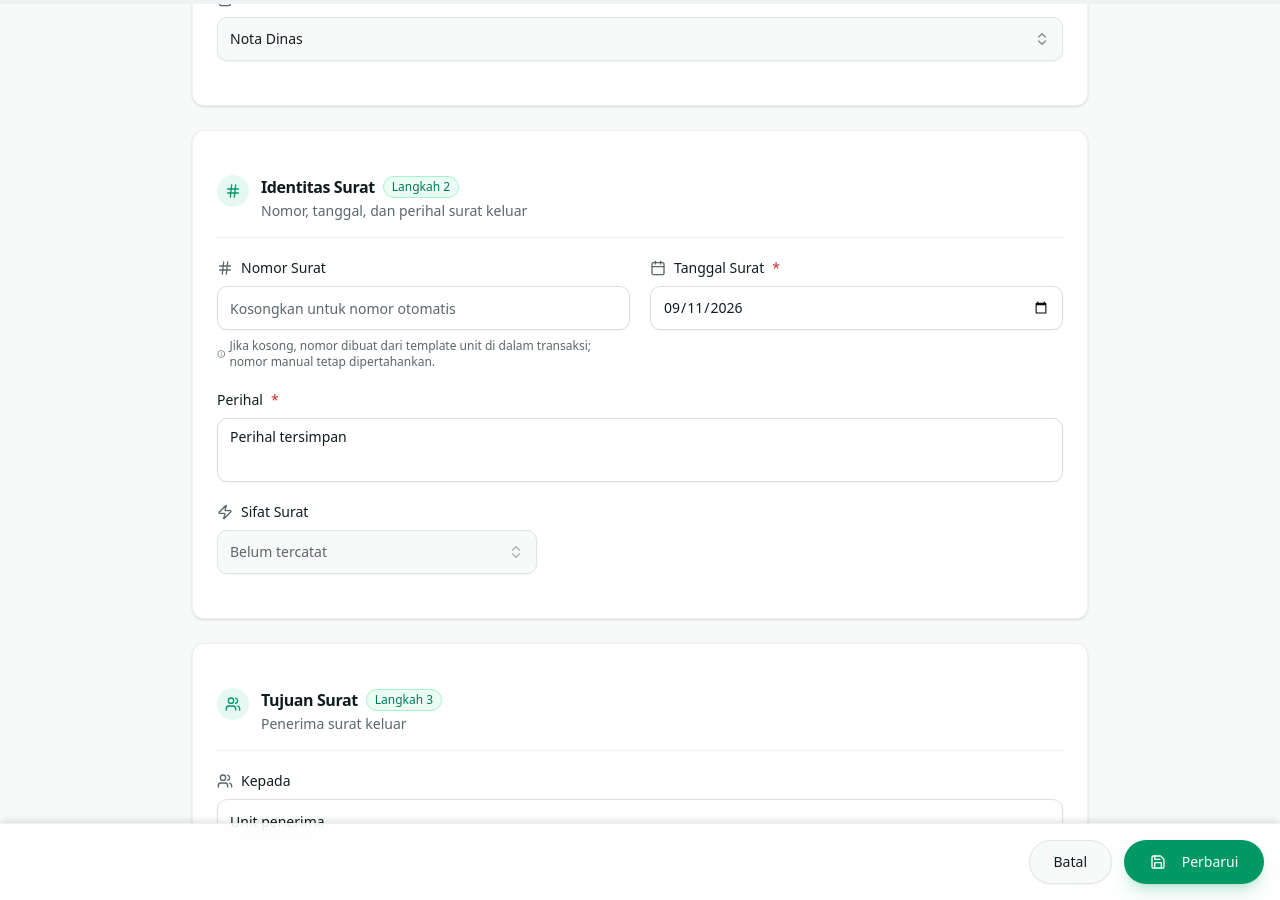
it: form surat keluar › focuses a server error, retains the entered data, and allows retry
(page scrolled)
Replace the text in the text box labelled "Perihal *" with "Perubahan belum tersimpan" at (640, 450), box [217,418,1063,482]
(page scrolled)
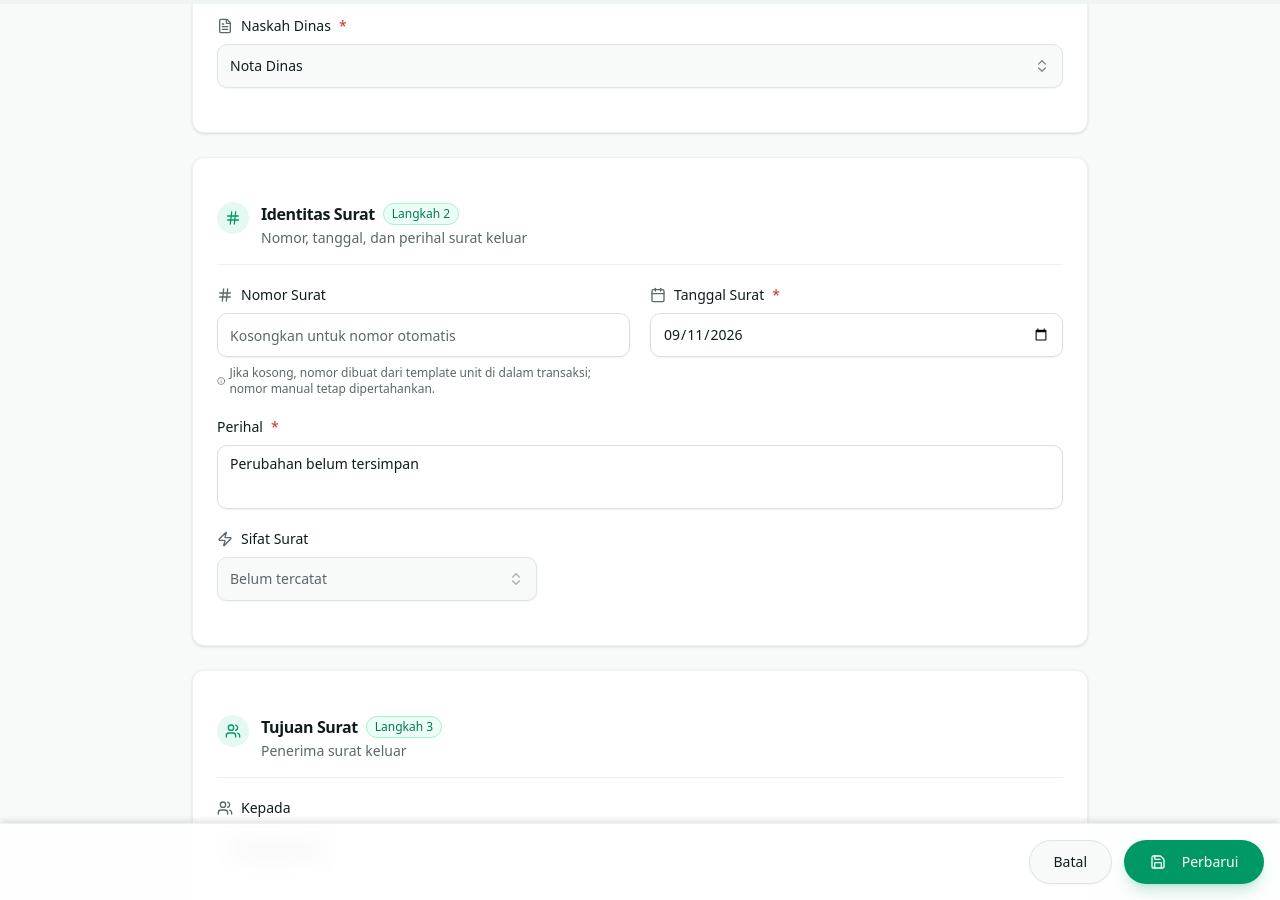
Submit the form
Check: the button "Perbarui" is enabled, box [1124,840,1264,884]
Submit the form
(page scrolled)
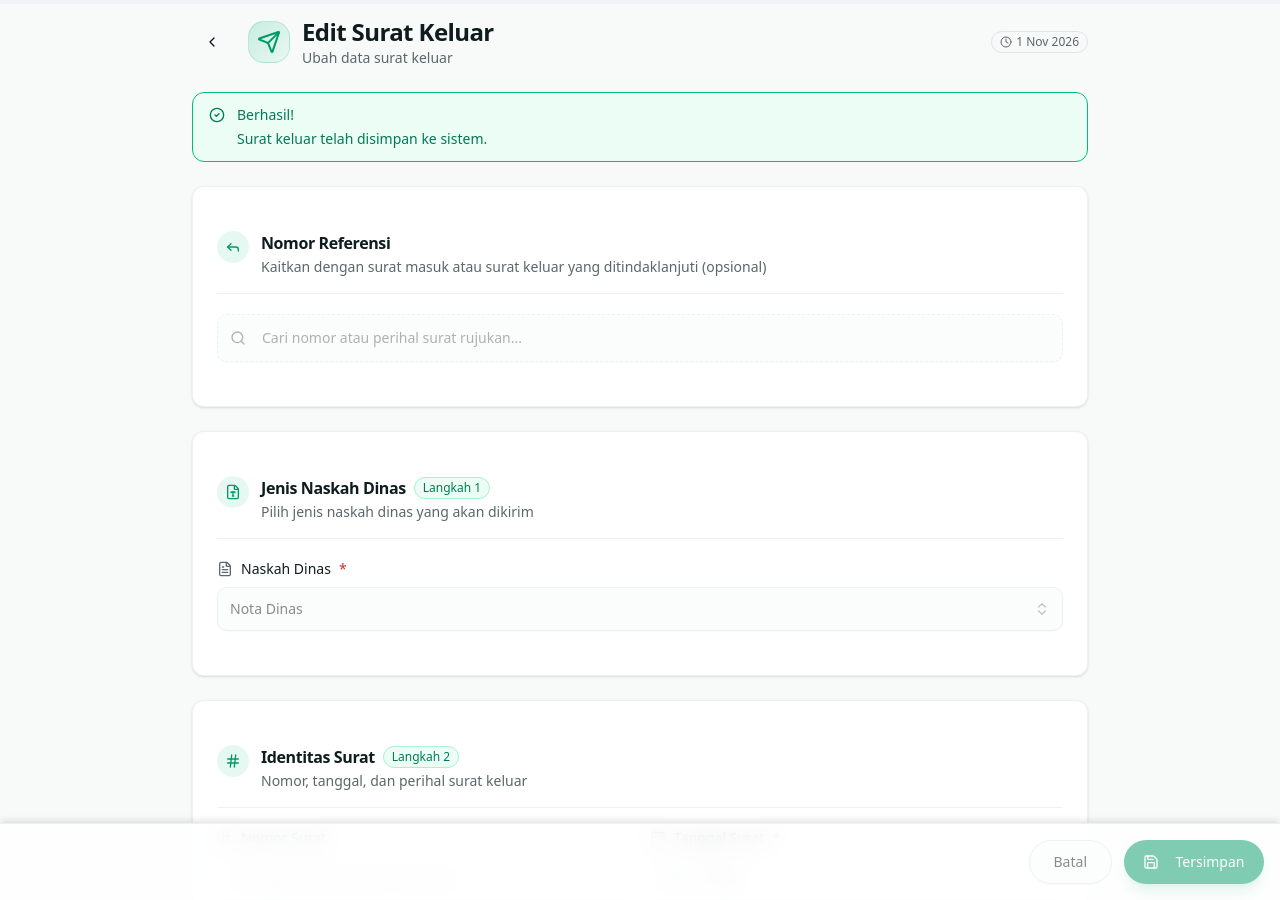
Check: the text "Berhasil! Surat keluar telah disimpan ke sistem." is shown, box [237,105,487,148]
